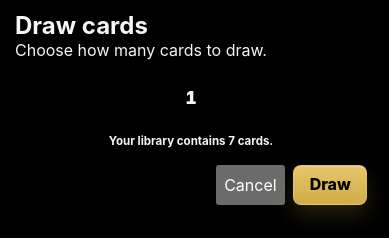
NumberActionDialogComponent › limits typed values to two digits and the configured max
The width and height of the screenshot is (389, 238).
Replace the text in the field with test id "number-action-input" with "123" at (191,98), box [125,76,257,119]
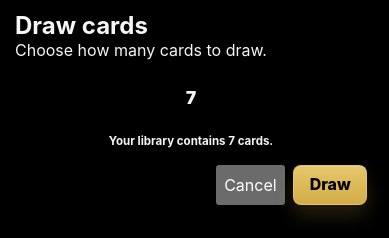
Expected: the field with test id "number-action-input" holds "7", [125,76,257,119]
